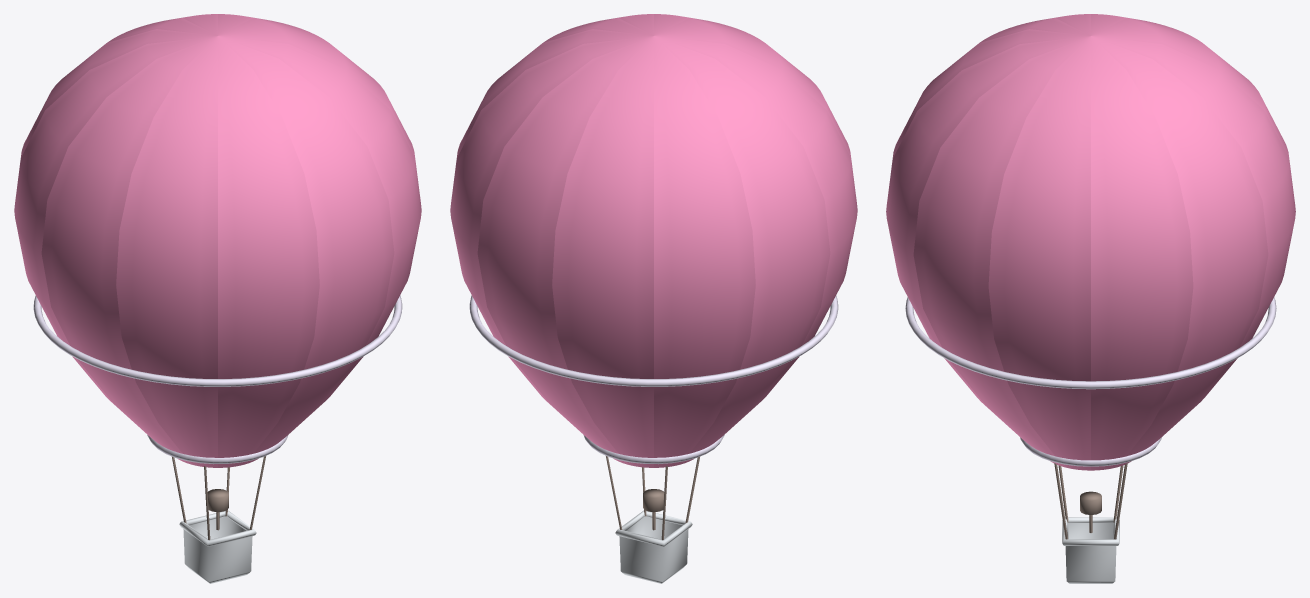
File: LobbyHotAirBalloon.glb
The picture shows the model from 3 angles, left to right: view 1: azimuth 30°, elevation 25°; view 2: azimuth 150°, elevation 25°; view 3: azimuth 270°, elevation 25°; orthographic projection.
Parts seen in each view (by area): view 1: Envelope, Stripes, Band, Basket, Ropes; view 2: Stripes, Envelope, Band, Basket, Ropes; view 3: Envelope, Stripes, Band, Basket, Ropes.
Part boxes in pixels (<box>): Envelope: <box>14,14,421,467</box>; Stripes: <box>14,14,421,467</box>; Band: <box>33,295,402,464</box>; Basket: <box>179,510,256,583</box>; Ropes: <box>172,456,265,540</box>; Stripes: <box>450,14,857,467</box>; Envelope: <box>450,14,857,467</box>; Band: <box>469,295,838,464</box>; Basket: <box>615,510,692,583</box>; Ropes: <box>606,456,699,540</box>; Envelope: <box>886,14,1295,470</box>; Stripes: <box>886,14,1295,470</box>; Band: <box>905,297,1276,466</box>; Basket: <box>1062,517,1119,583</box>; Ropes: <box>1054,463,1127,539</box>.
Bounding box in the file's own units: 18.4 × 26.7 × 18.4.
